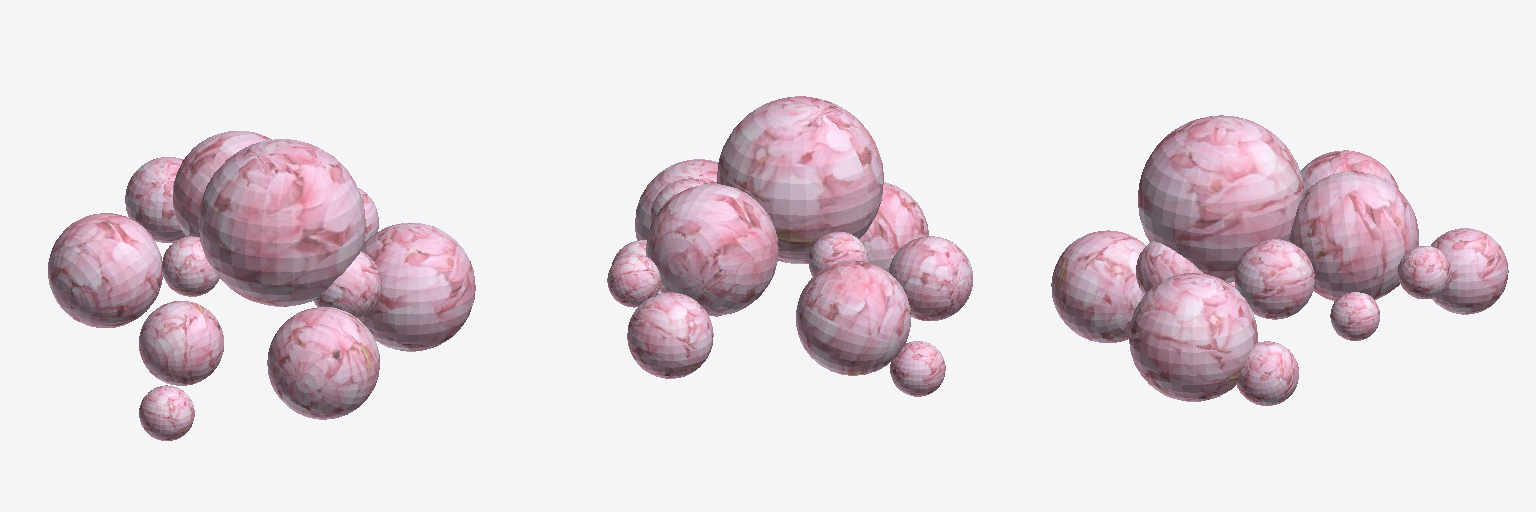
3 renders of one model, left to right at view 1: azimuth 30°, elevation 25°; view 2: azimuth 150°, elevation 25°; view 3: azimuth 270°, elevation 25°, orthographic.
Parts seen in each view (by area): view 1: Sphere.003, Sphere.005, Sphere.001, Sphere.004, Sphere.002, Sphere.006, Sphere, Sphere.012, Sphere.013, Sphere.011, Sphere.007; view 2: Sphere.003, Sphere.006, Sphere.001, Sphere, Sphere.002, Sphere.004, Sphere.011, Sphere.009, Sphere.005, Sphere.013, Sphere.007; view 3: Sphere.003, Sphere.005, Sphere.006, Sphere.004, Sphere.007, Sphere, Sphere.008, Sphere.009, Sphere.010, Sphere.001, Sphere.012.
Boxes of the visible parts, box(x1,y1,x2,y2) form: Sphere.003: box(198, 139, 365, 306); Sphere.005: box(359, 223, 475, 351); Sphere.001: box(48, 213, 162, 327); Sphere.004: box(267, 307, 379, 419); Sphere.002: box(139, 301, 223, 385); Sphere.006: box(173, 131, 271, 236); Sphere: box(125, 157, 185, 242); Sphere.012: box(314, 251, 381, 318); Sphere.013: box(162, 236, 219, 296); Sphere.011: box(139, 385, 194, 440); Sphere.007: box(359, 188, 378, 243); Sphere.003: box(716, 96, 883, 263); Sphere.006: box(646, 184, 778, 316); Sphere.001: box(796, 260, 910, 375); Sphere: box(627, 292, 713, 378); Sphere.002: box(889, 236, 972, 320); Sphere.004: box(859, 182, 928, 271); Sphere.011: box(890, 341, 945, 396); Sphere.009: box(607, 254, 660, 307); Sphere.005: box(635, 159, 717, 240); Sphere.013: box(809, 232, 868, 276); Sphere.007: box(650, 178, 709, 223); Sphere.003: box(1138, 115, 1304, 282); Sphere.005: box(1129, 273, 1257, 401); Sphere.006: box(1289, 171, 1418, 301); Sphere.004: box(1051, 230, 1145, 342); Sphere.007: box(1234, 239, 1314, 319); Sphere: box(1431, 228, 1508, 314); Sphere.008: box(1236, 341, 1298, 405); Sphere.009: box(1398, 246, 1451, 298); Sphere.010: box(1330, 292, 1379, 340); Sphere.001: box(1300, 150, 1399, 190); Sphere.012: box(1136, 241, 1203, 294).
Bounding box in the file's own units: 0.667 × 0.4983 × 0.7864.
3 materials, 1 textured.